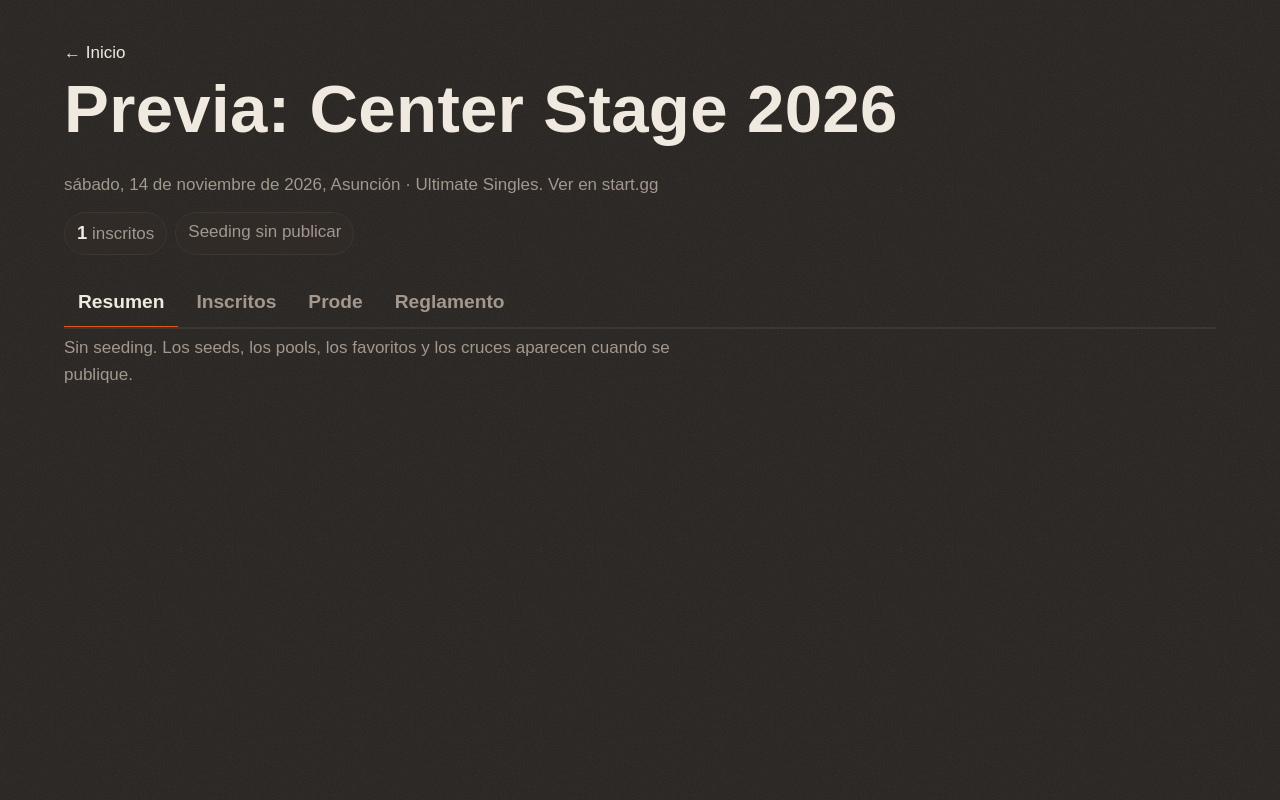
Scenario: adds a Reglamento tab with the document, its version and the PDF
This screenshot has width=1280, height=800.
Click the tab "Reglamento": (450,303) [381,277,519,329]
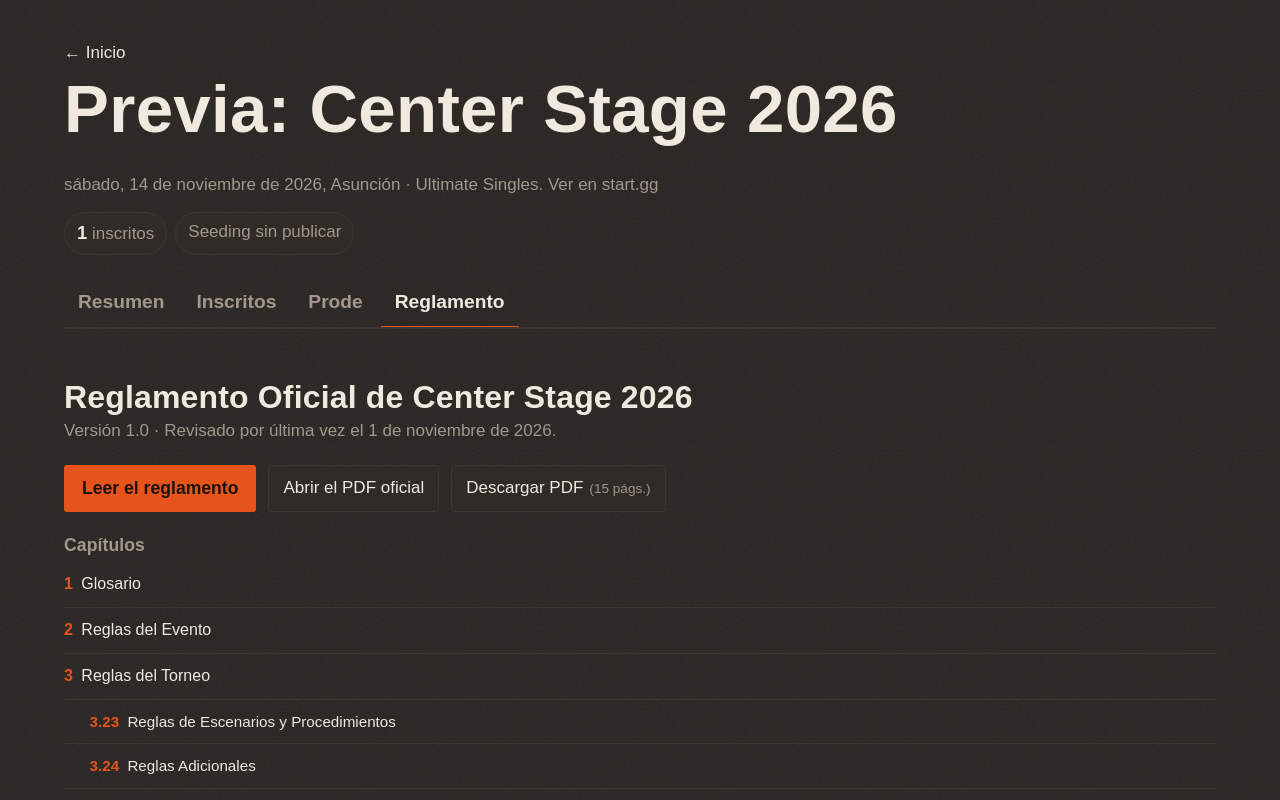
Now the heading "Reglamento Oficial de Center Stage 2026" is shown, box [64,379,693,415]
